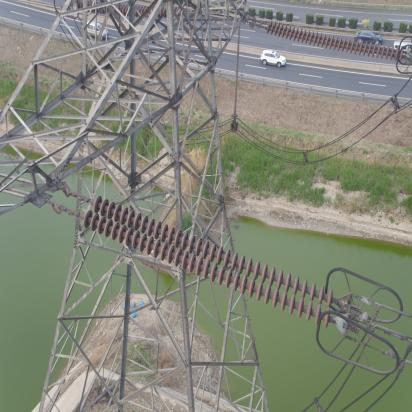insulator: (72, 193, 344, 330), (261, 19, 408, 65)
